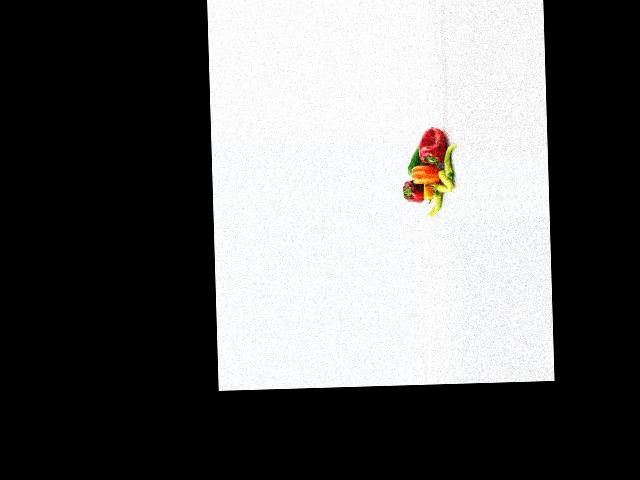bell_pepper: (443, 141, 456, 182)
